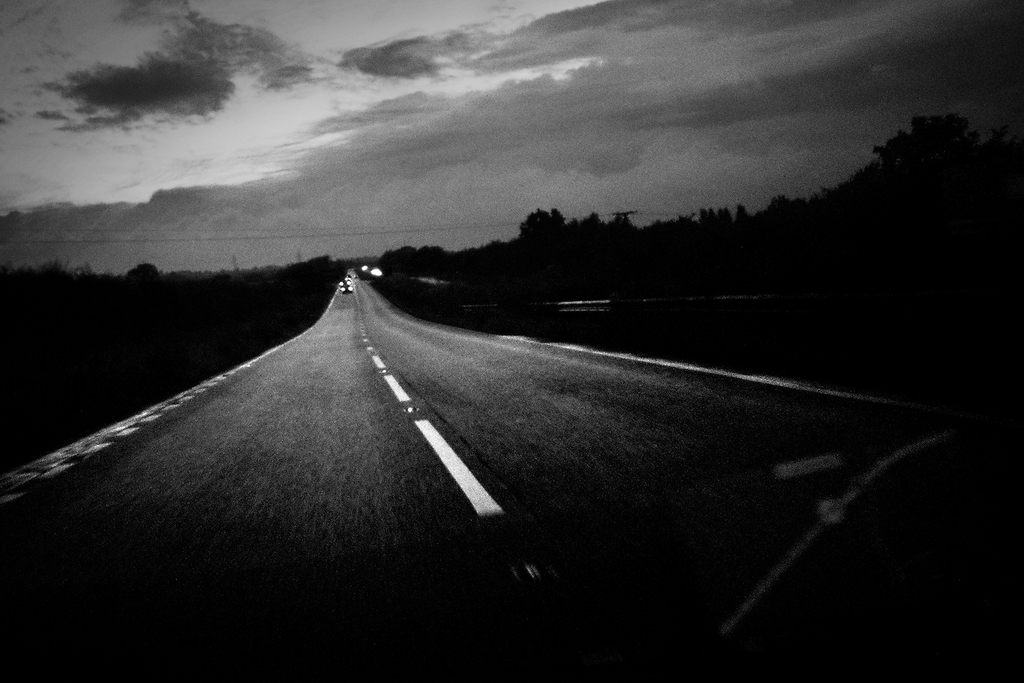Tree: (375, 110, 1023, 286), (3, 246, 355, 342), (876, 111, 999, 247)
